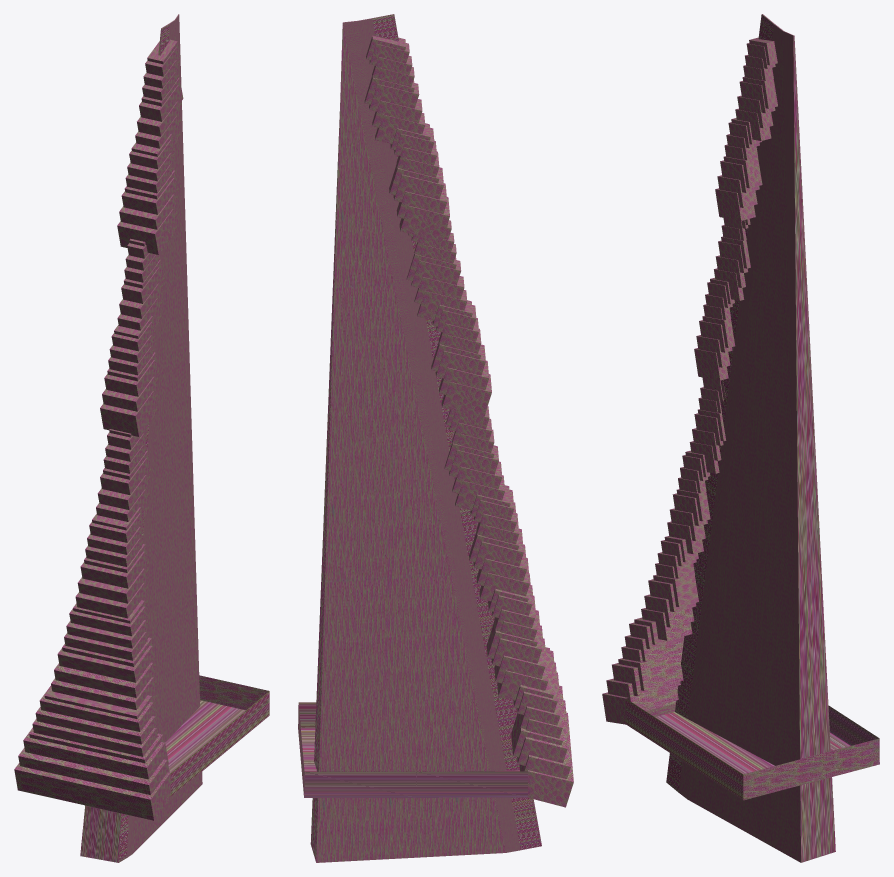
File: escaleras2.glb
3 views of the same model, side by side, from view 1: azimuth 30°, elevation 25°; view 2: azimuth 150°, elevation 25°; view 3: azimuth 270°, elevation 25° (orthographic). The views are drawn at different scales.
Parts seen in each view (by area): view 1: Cube.001, Cube, Cube.002, Cube.003, Cube.004; view 2: Cube, Cube.001, Cube.003, Cube.002, Cube.004; view 3: Cube, Cube.001, Cube.003, Cube.002, Cube.004.
Part boxes in pixels (left/top/right/bottom): Cube.001: left=14, top=600, right=269, bottom=820; Cube: left=80, top=14, right=202, bottom=862; Cube.002: left=75, top=426, right=151, bottom=618; Cube.003: left=117, top=39, right=183, bottom=254; Cube.004: left=100, top=238, right=164, bottom=436; Cube: left=310, top=14, right=541, bottom=862; Cube.001: left=298, top=573, right=573, bottom=807; Cube.003: left=364, top=35, right=449, bottom=241; Cube.002: left=444, top=406, right=529, bottom=601; Cube.004: left=406, top=220, right=491, bottom=417; Cube: left=666, top=14, right=835, bottom=862; Cube.001: left=602, top=536, right=879, bottom=800; Cube.003: left=715, top=37, right=777, bottom=220; Cube.002: left=667, top=377, right=726, bottom=554; Cube.004: left=694, top=218, right=750, bottom=380.
Size of what is drawn, in the model's own units: 8.03 by 23.34 by 7.18.
2 materials, 2 textured.
